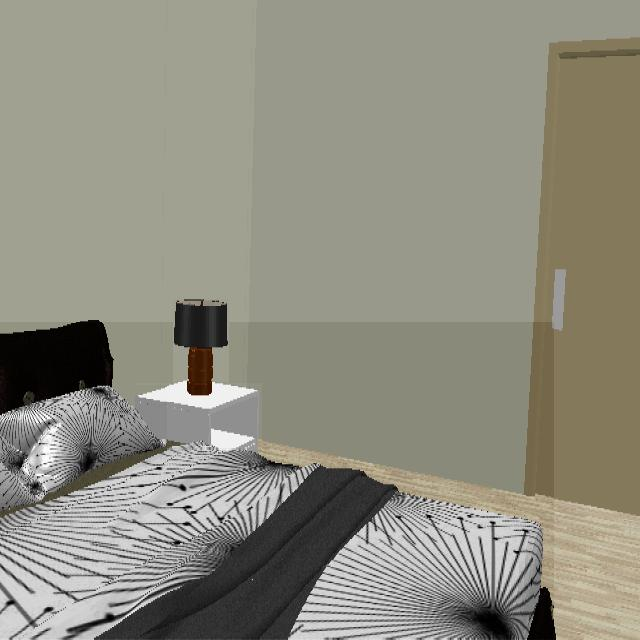bed: (0, 323, 553, 639)
lamp: (173, 300, 229, 397)
nighttable: (133, 384, 262, 449)
pillow: (0, 387, 167, 518)
